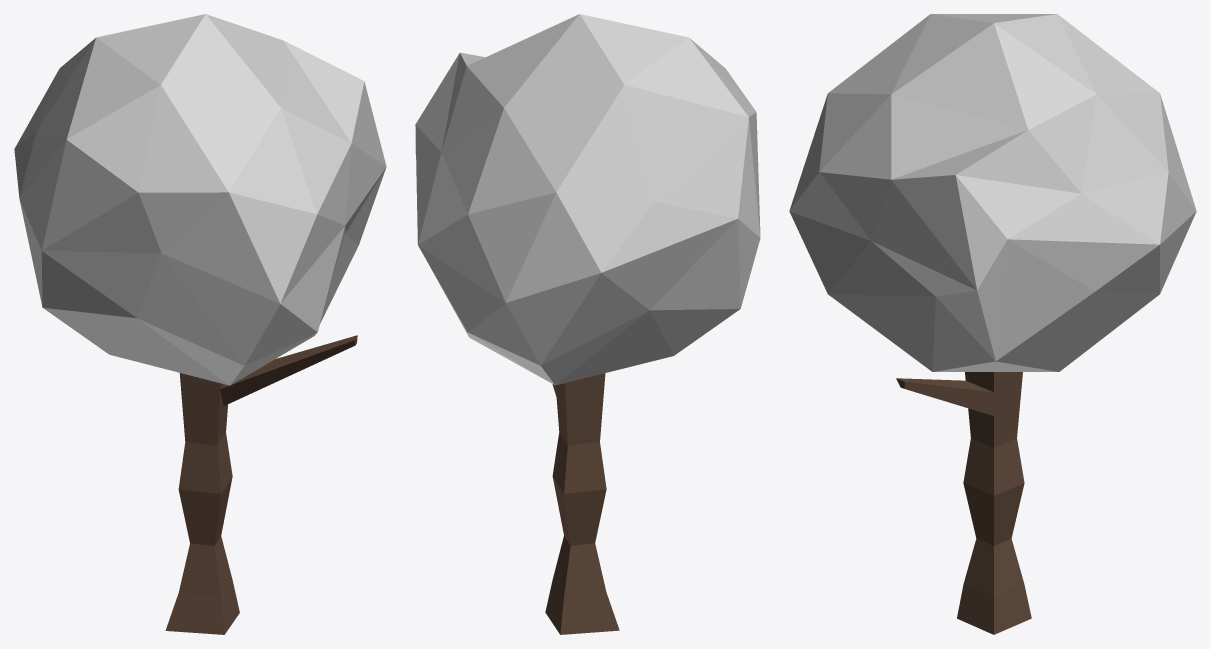
File: Tree_39_White.fbx
3 renders of one model, left to right at view 1: azimuth 30°, elevation 25°; view 2: azimuth 150°, elevation 25°; view 3: azimuth 270°, elevation 25°, orthographic.
Parts seen in each view (by area): view 1: Tree_39_White_Part_1, Tree_39_White_Part_2, Tree_39_White_Part_3; view 2: Tree_39_White_Part_1, Tree_39_White_Part_2; view 3: Tree_39_White_Part_1, Tree_39_White_Part_2, Tree_39_White_Part_3.
Part boxes in pixels (x1,y1,x2,y2): Tree_39_White_Part_1: (14,14,386,385); Tree_39_White_Part_2: (165,373,239,634); Tree_39_White_Part_3: (220,335,357,405); Tree_39_White_Part_1: (415,14,760,385); Tree_39_White_Part_2: (545,373,619,634); Tree_39_White_Part_1: (789,14,1196,371); Tree_39_White_Part_2: (957,372,1031,634); Tree_39_White_Part_3: (896,378,993,415).
Bounding box in the file's own units: 474 × 798 × 495.
